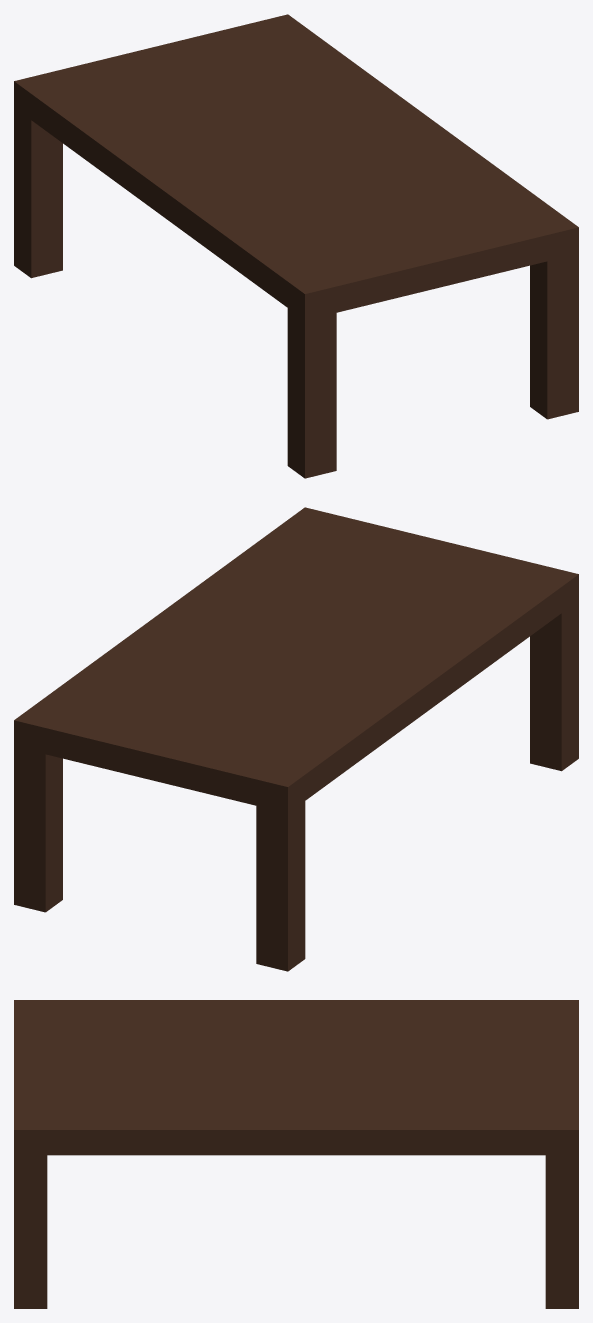
The model's file is table.fbx.
3 views of the same model, one above another, from view 1: azimuth 30°, elevation 25°; view 2: azimuth 150°, elevation 25°; view 3: azimuth 270°, elevation 25° (orthographic). The views are drawn at different scales.
Visible parts, largest first — view 1: table; view 2: table; view 3: table.
Boxes of the visible parts, bbox=[...] form: table: bbox=[14, 14, 578, 478]; table: bbox=[14, 507, 578, 971]; table: bbox=[14, 1000, 578, 1308].
Bounding box in the file's own units: 417 × 268 × 767.
